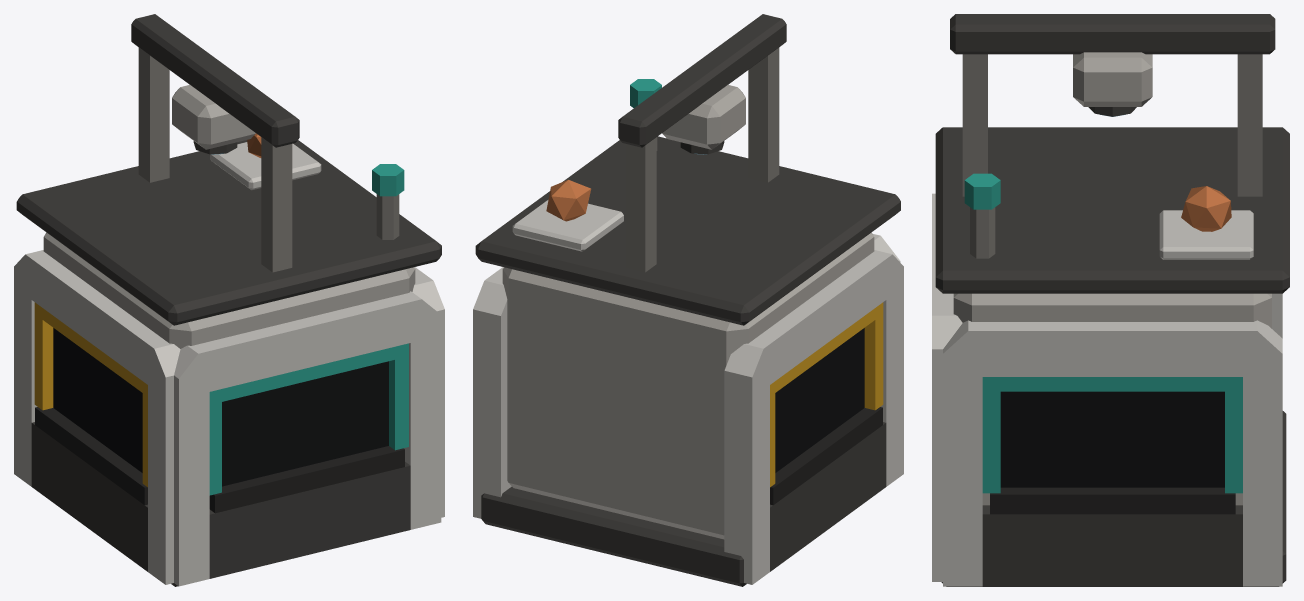
The model's file is sorter.fbx.
3 renders of one model, left to right at view 1: azimuth 30°, elevation 25°; view 2: azimuth 150°, elevation 25°; view 3: azimuth 270°, elevation 25°, orthographic. The views are drawn at different scales.
Parts seen in each view (by area): view 1: sorter; view 2: sorter; view 3: sorter.
Part boxes in pixels (<box>): sorter: <box>14,14,444,586</box>; sorter: <box>473,14,903,586</box>; sorter: <box>932,14,1289,586</box>.
Size of the model in its own units: 3 by 4.49 by 2.97.
